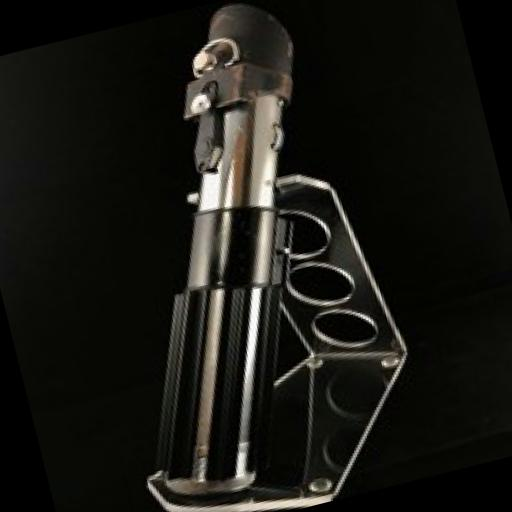lightsaber: (47, 0, 402, 507)
